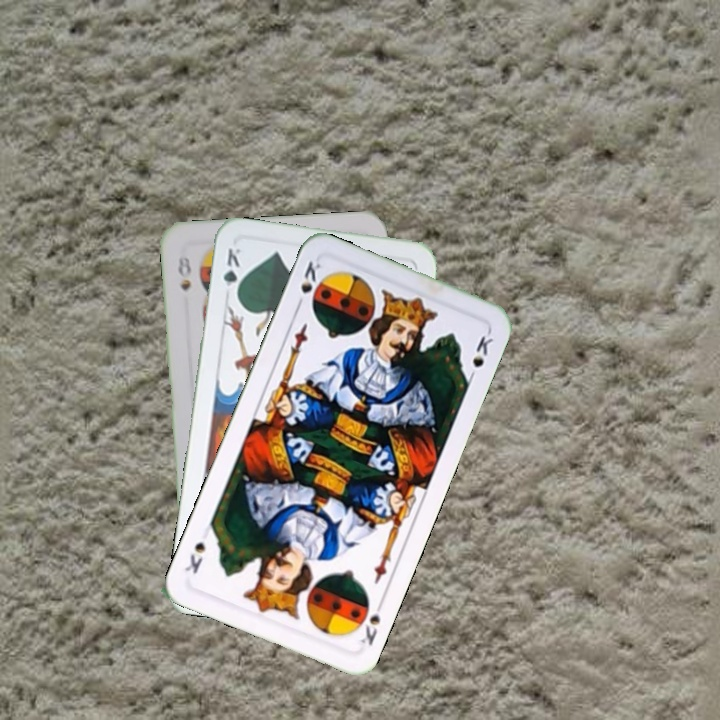GK: (219, 244, 243, 301)
S8: (174, 251, 194, 293)
SK: (292, 257, 324, 312), (356, 595, 387, 648)
